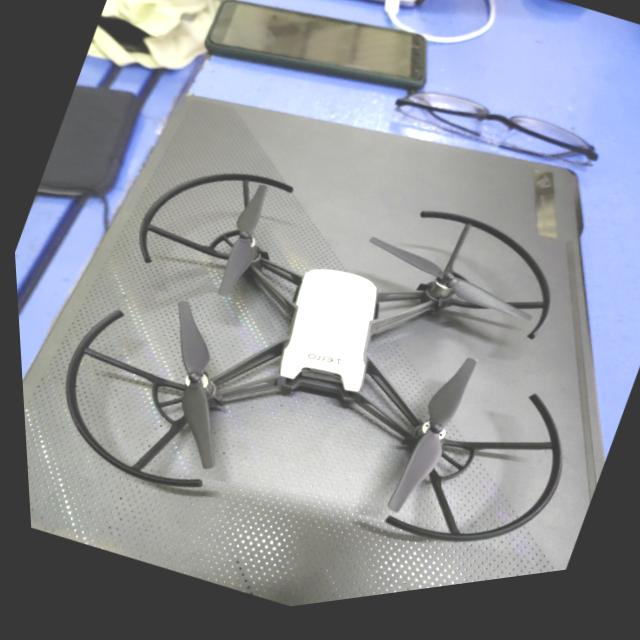drone: (49, 174, 559, 564)
